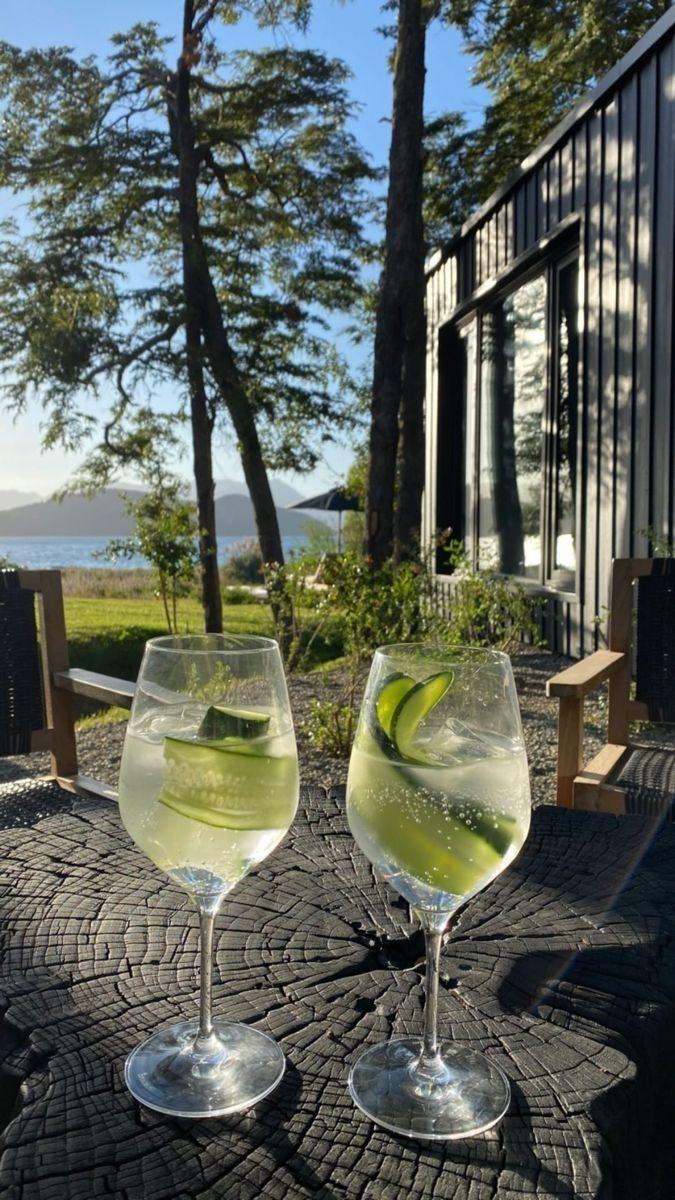glass-wine: (337, 641, 535, 1144), (111, 630, 303, 1122)
